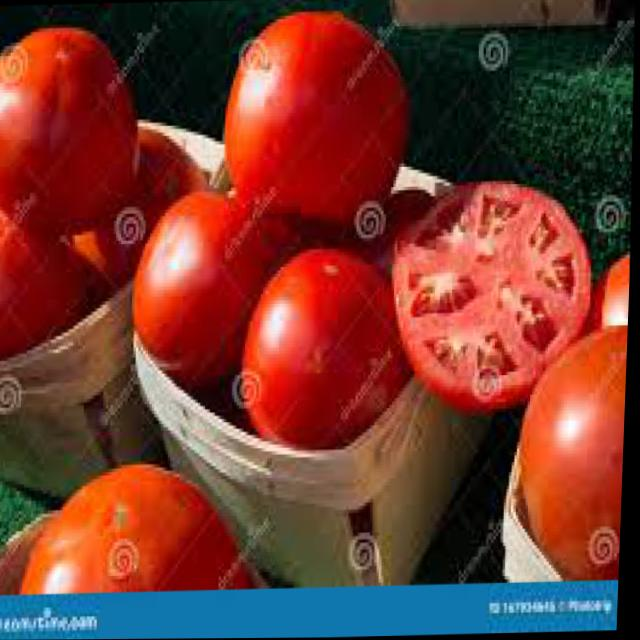tomato: (221, 9, 417, 218), (131, 189, 301, 414), (0, 461, 272, 598), (233, 244, 406, 452), (0, 25, 146, 250), (514, 329, 630, 580)
